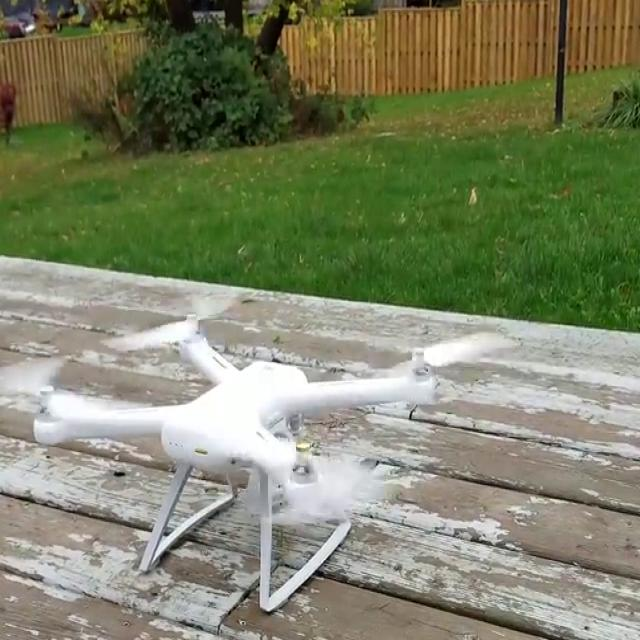drone: (0, 278, 512, 532)
